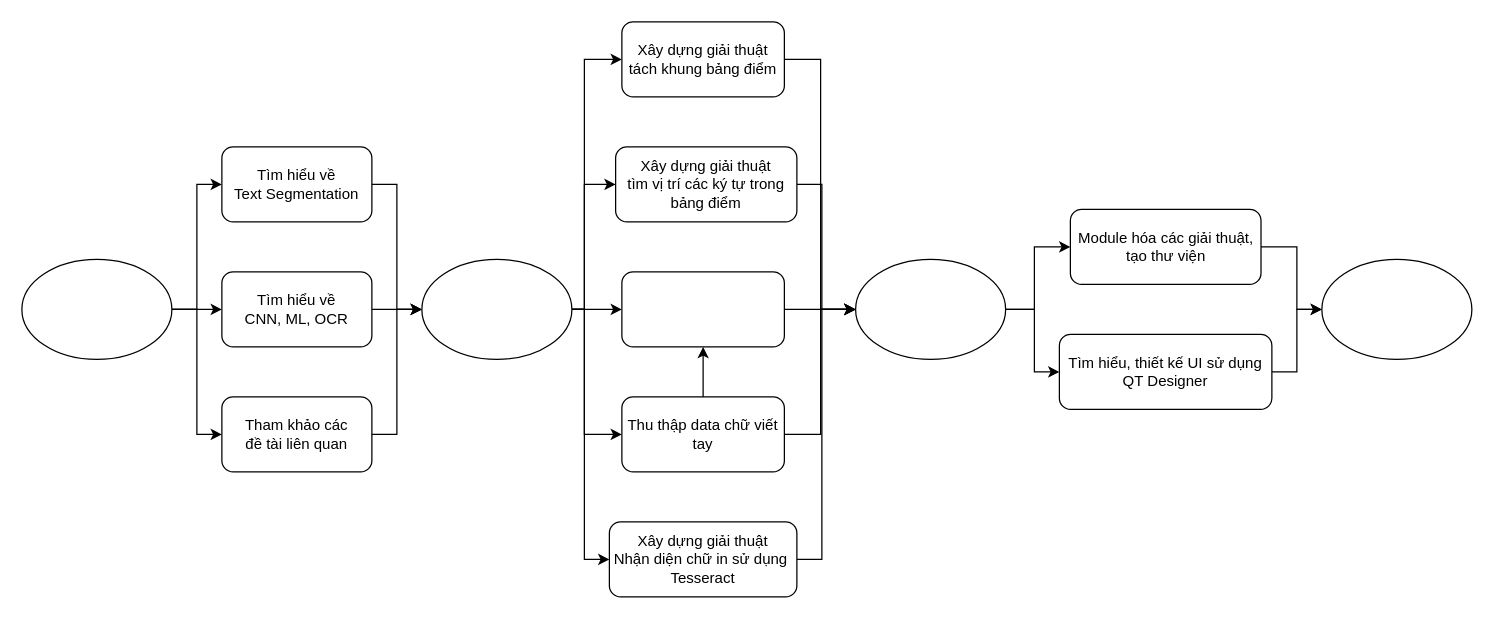
Some shapes in this 1494 by 619 pixel diagram are drawn without their labels. The shapes that lost their labels are listed below. From the top down, each one's centre as x and y in pixels, then its label:
the point at 96,308: Tìm hiểu tổng quan đề tài
the point at 496,308: Thực hiện đề tài
the point at 702,309: Xậy dựng CNN model Nhận diện số viết tay
the point at 930,308: Đóng gói Hoàn thiện đề tài
the point at 1396,308: Ra sản phẩm
